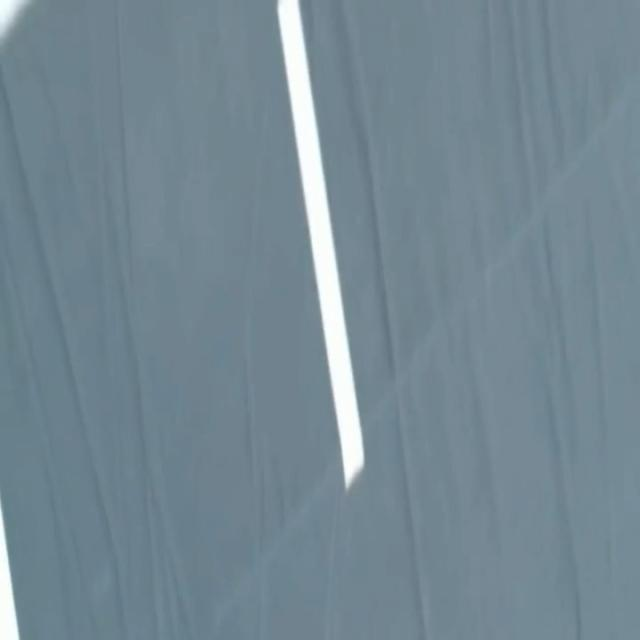center: (277, 0, 364, 488)
left: (0, 504, 19, 639)
